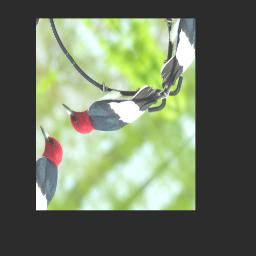Woodpecker: (57, 39, 169, 167)
